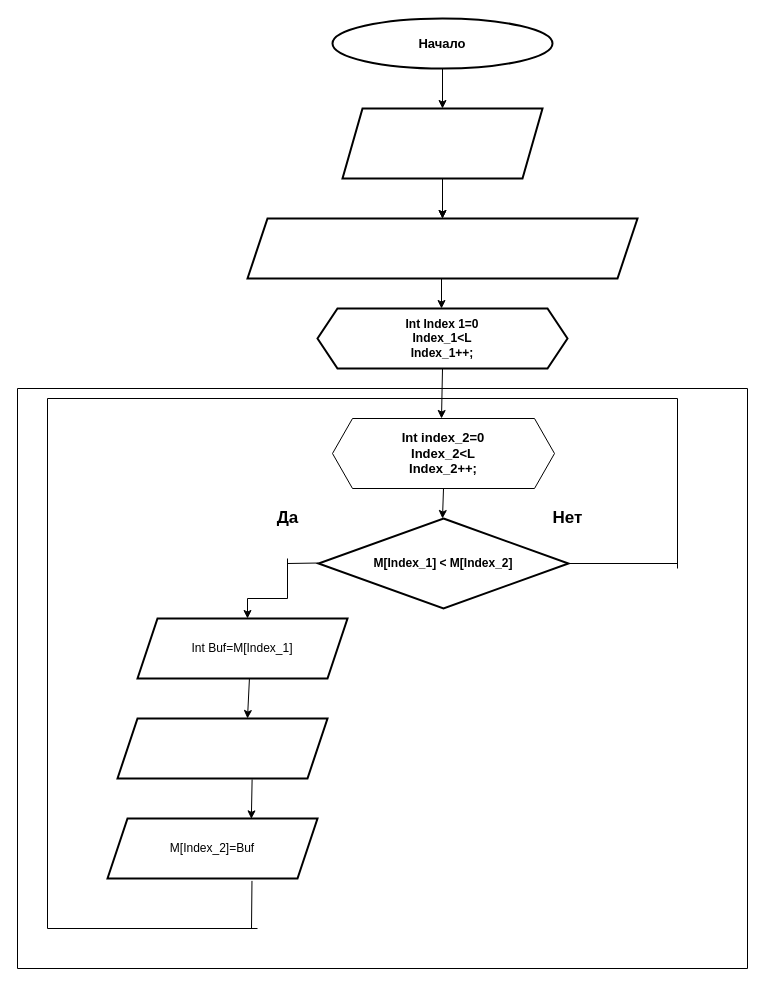
Image size: 766x987. Some labels were removed from this diagram. The centre of each missing label's shape, as x and y in pixels:
M[Index_1]=M[Index_2]: (222,748)
Задаём количество элементов Int L = 4;: (442,248)
Задаём массив Int M[4]={9,0,5,2};: (442,143)
